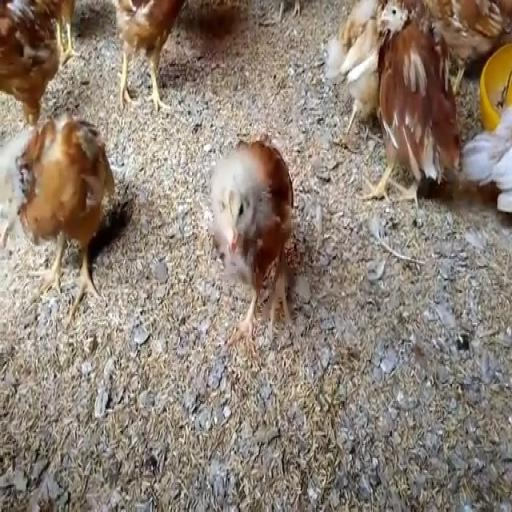disease: (226, 189, 254, 251)
